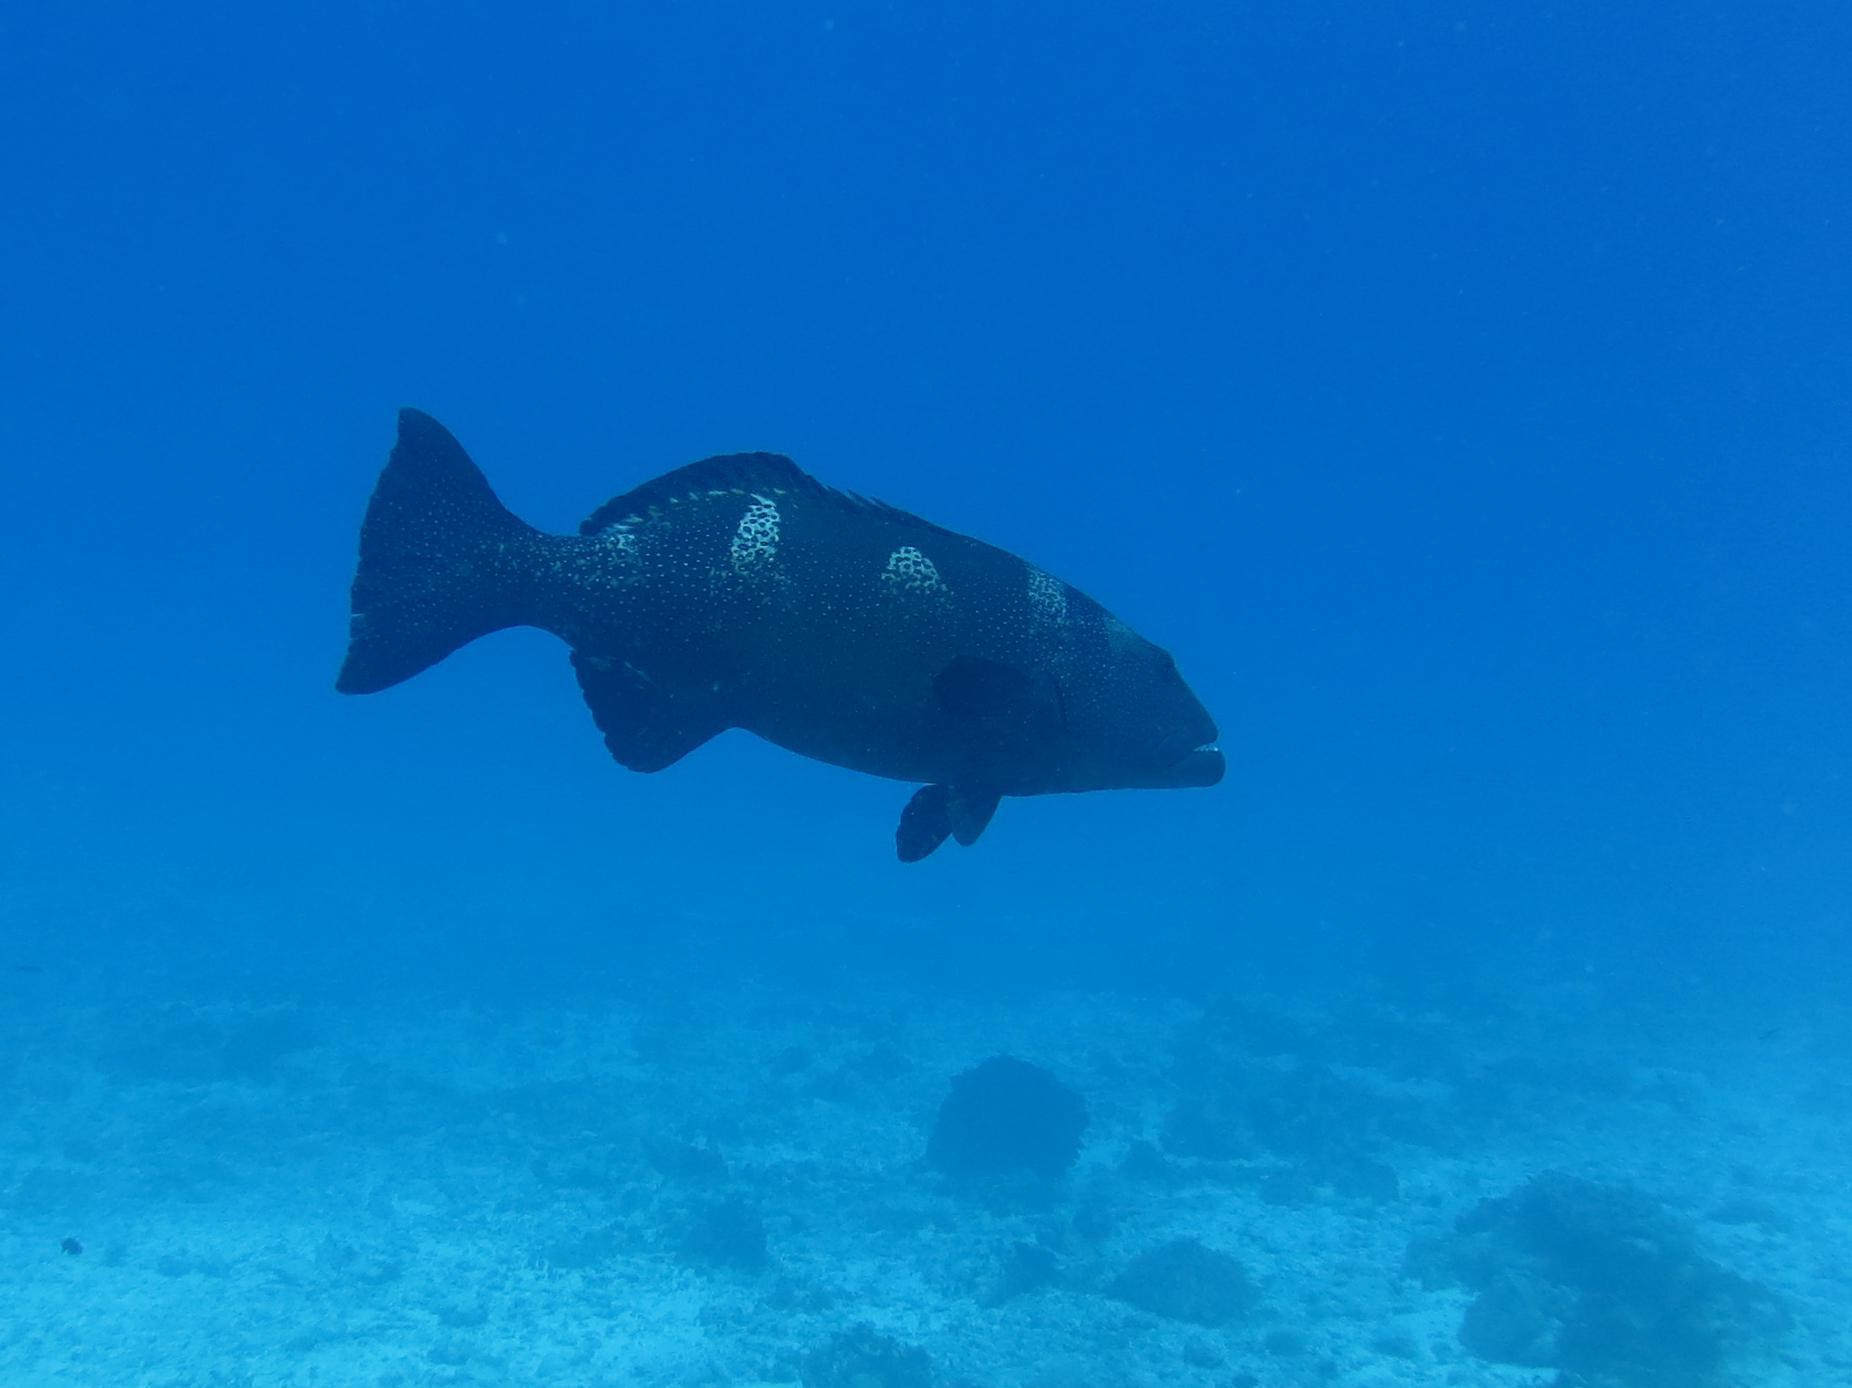Fish: (286, 311, 1352, 958)
